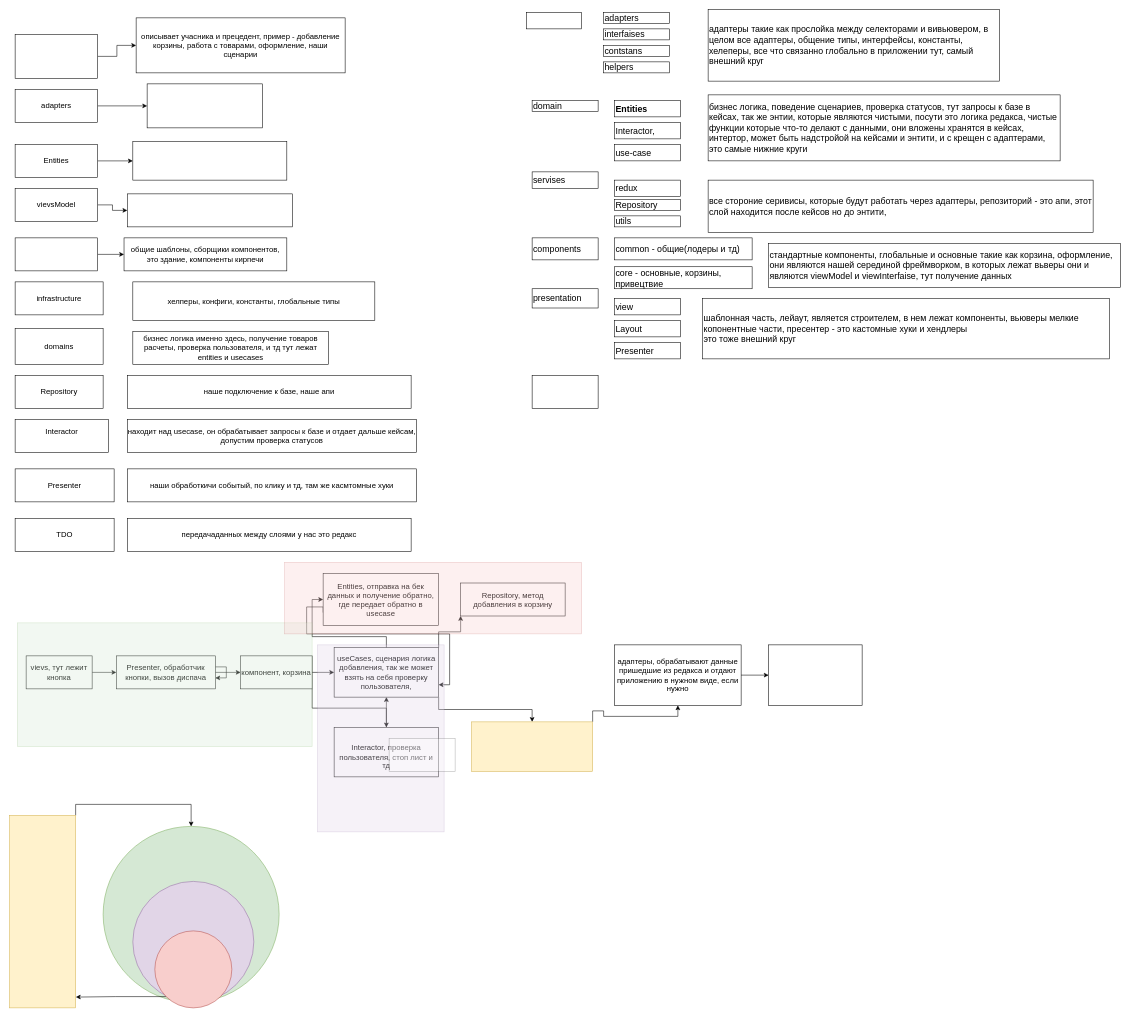
This 1130x1018 diagram has some shape labels left out. Each missing label, with the centre of its shape:
"application" goes at point (554, 20).
"layouts" goes at point (56, 254).
"route - дейфолтный роут" goes at point (565, 391).
"useCases" goes at point (56, 56).
"vievModel, которая уже получает данные и реализует их" goes at point (815, 674).
"бизнес логика" goes at point (209, 160).
"визуальное представление, реализация" goes at point (209, 210).
"обертка над локал сторедж, связующие между редаксом и приложением" goes at point (205, 105).
"редюсер" goes at point (532, 746).
